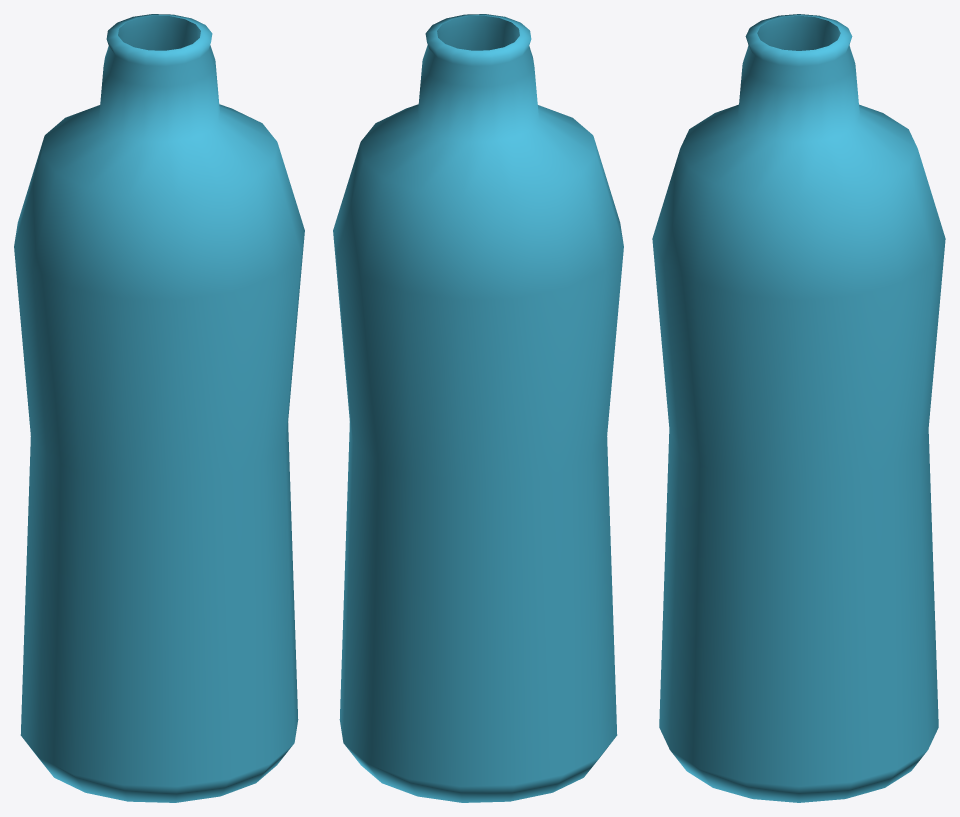
File: Water_bottle.fbx
The picture shows the model from 3 angles, left to right: view 1: azimuth 30°, elevation 25°; view 2: azimuth 150°, elevation 25°; view 3: azimuth 270°, elevation 25°; orthographic projection.
Visible parts, largest first — view 1: Water; view 2: Water; view 3: Water.
Boxes of the visible parts, x1,y1,x2,y2 form: Water: (14,14,304,802); Water: (333,14,623,802); Water: (652,14,945,802).
Size of the model in its own units: 1.17 by 3.16 by 1.17.
Materials: 1 (1 with a texture image).
